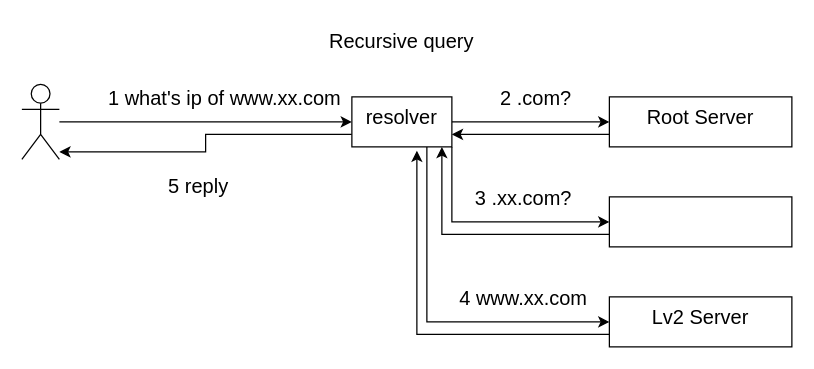
The diagram is 814 pixels wide and 369 high, and some of its shapes have lost their labels. The shapes that lost their labels are listed below. From the top down, each one's centre as x and y in pixels, then its label:
At point (40, 121): "Client".
At point (700, 221): "Top Level Domain".
